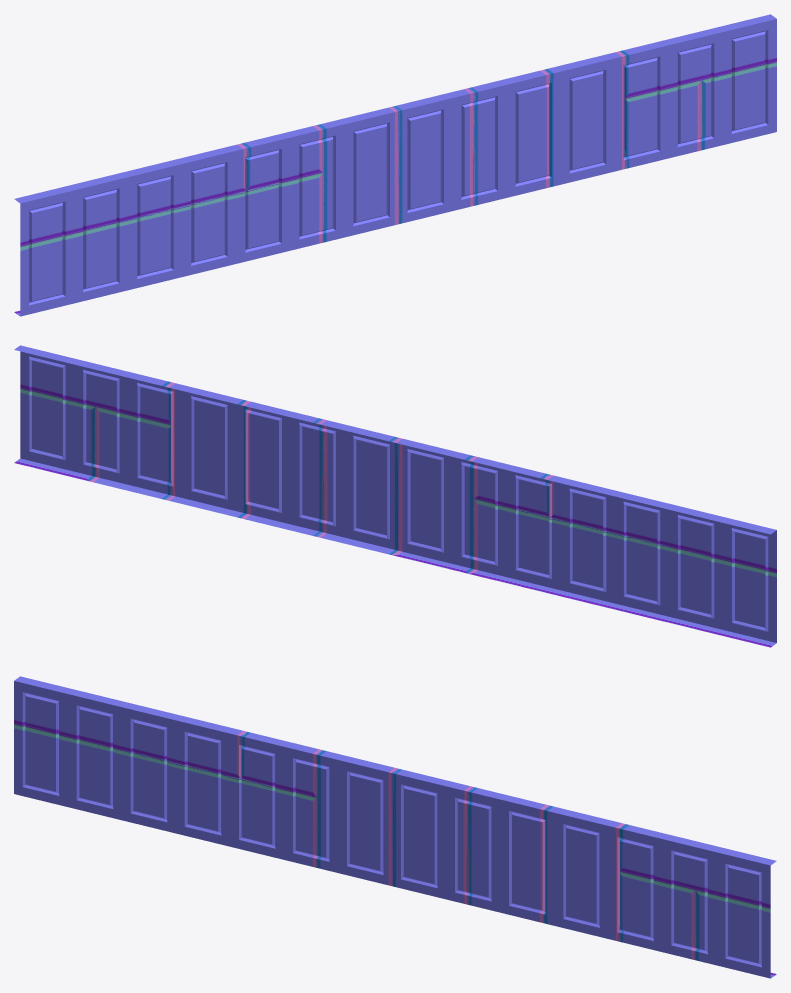
The model's file is Side Paneling Stairs.fbx.
3 views of the same model, one above another, from view 1: azimuth 30°, elevation 25°; view 2: azimuth 150°, elevation 25°; view 3: azimuth 330°, elevation 25° (orthographic).
Parts seen in each view (by area): view 1: Side_Panel_Stairs; view 2: Side_Panel_Stairs; view 3: Side_Panel_Stairs.
Boxes of the visible parts, x1=… form: Side_Panel_Stairs: x1=14, y1=14, x2=776, y2=316; Side_Panel_Stairs: x1=14, y1=345, x2=776, y2=647; Side_Panel_Stairs: x1=14, y1=676, x2=776, y2=978.
Bounding box in the file's own units: 700 × 100 × 10.
